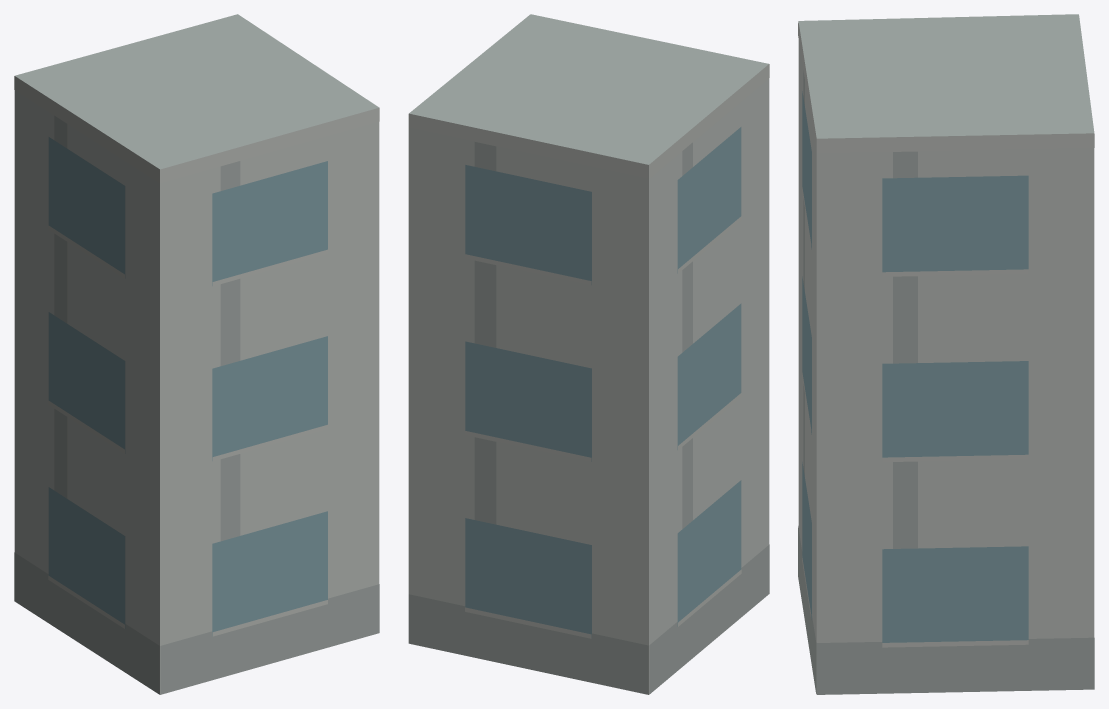
Rendered from survey-upis-32489330.glb.
The picture shows the model from 3 angles, left to right: view 1: azimuth 30°, elevation 25°; view 2: azimuth 150°, elevation 25°; view 3: azimuth 270°, elevation 25°; orthographic projection. The views are drawn at different scales.
Visible parts, largest first — view 1: survey-upis-32489330.tmp; view 2: survey-upis-32489330.tmp; view 3: survey-upis-32489330.tmp.
Boxes of the visible parts, left/top/right/bottom form: survey-upis-32489330.tmp: left=14, top=14, right=379, bottom=694; survey-upis-32489330.tmp: left=408, top=14, right=769, bottom=694; survey-upis-32489330.tmp: left=798, top=14, right=1094, bottom=694.
Bounding box in the file's own units: 4.41 × 9.15 × 4.43.
